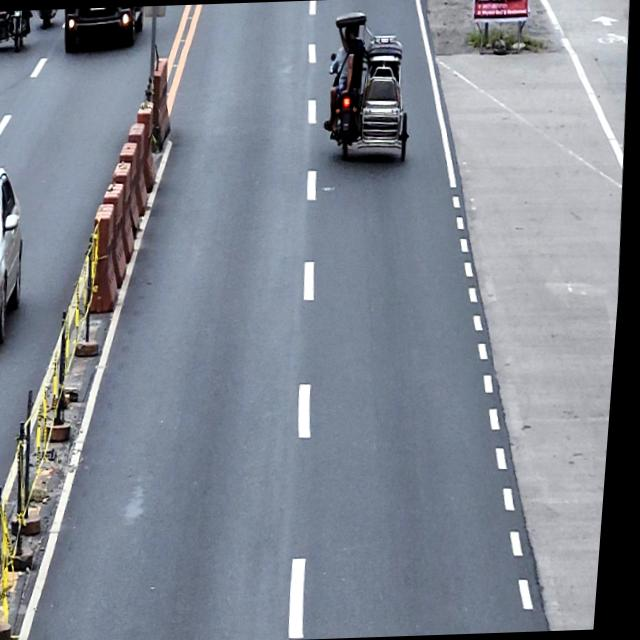Car: (0, 164, 35, 345), (62, 6, 146, 51)
Tricycle: (324, 10, 419, 166), (0, 10, 30, 53)
